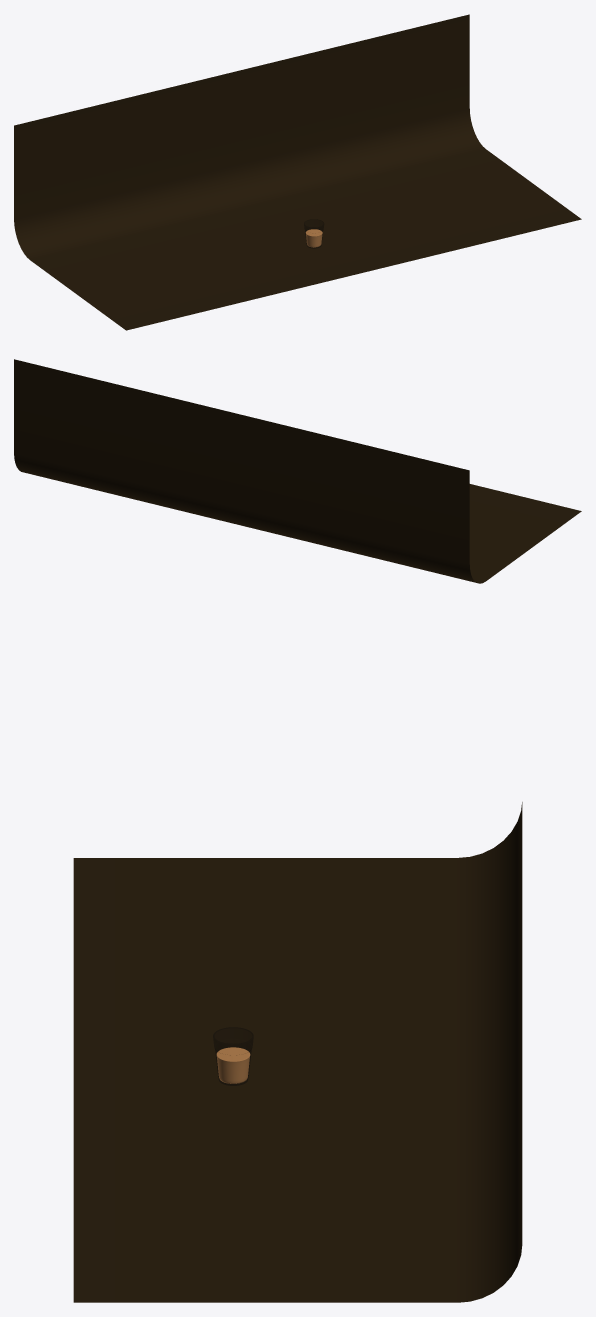
Rendered from tea.glb.
The picture shows the model from 3 angles, top to bottom: view 1: azimuth 30°, elevation 25°; view 2: azimuth 150°, elevation 25°; view 3: azimuth 270°, elevation 25°; orthographic projection. The views are drawn at different scales.
Parts seen in each view (by area): view 1: Plane_5, Cylinder.001_2; view 2: Plane_5; view 3: Plane_5, Cylinder.001_2, Liquid_3.
Part boxes in pixels (x1=…): Plane_5: x1=14, y1=14, x2=581, y2=330; Cylinder.001_2: x1=304, y1=219, x2=323, y2=248; Plane_5: x1=14, y1=359, x2=581, y2=583; Plane_5: x1=73, y1=802, x2=522, y2=1302; Cylinder.001_2: x1=213, y1=1027, x2=253, y2=1085; Liquid_3: x1=216, y1=1047, x2=250, y2=1083.
Size of what is drawn, in the model's own units: 2.4 by 0.6173 by 1.02.
